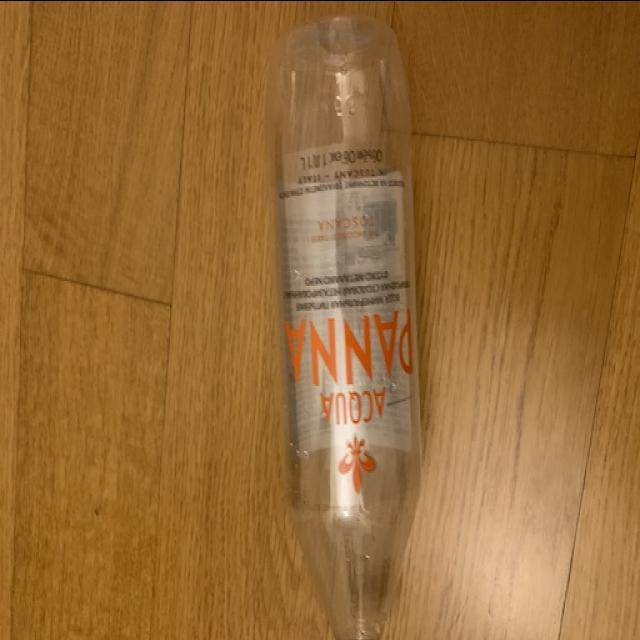litter: (270, 13, 425, 640)
